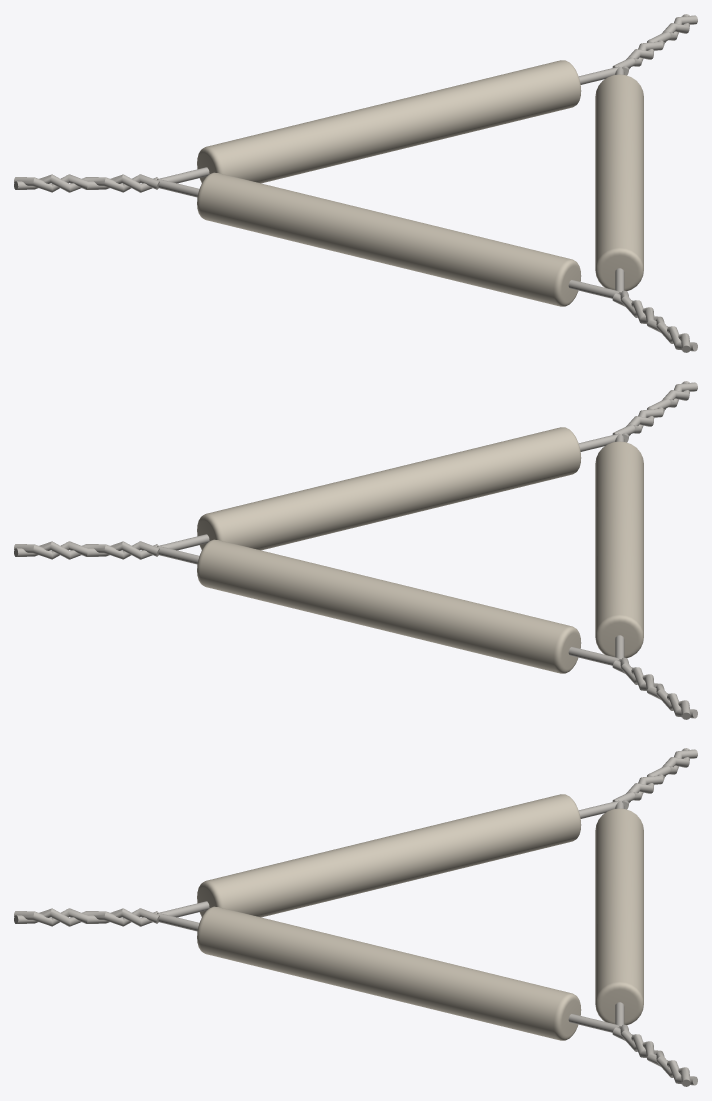
The model's file is clay-triangle.glb.
3 renders of one model, top to bottom at view 1: azimuth 30°, elevation 25°; view 2: azimuth 150°, elevation 25°; view 3: azimuth 270°, elevation 25°, orthographic.
Visible parts, largest first — view 1: Triangle_tube_1, Triangle_tube_0, Triangle_tube_2, Triangle_leg_0_0, Triangle_leg_0_1, Triangle_wire_1, Triangle_wire_0, Triangle_leg_1_0, Triangle_leg_1_1, Triangle_leg_2_1, Triangle_leg_2_0; view 2: Triangle_tube_0, Triangle_tube_2, Triangle_tube_1, Triangle_leg_2_0, Triangle_leg_2_1, Triangle_wire_0, Triangle_wire_2, Triangle_leg_0_0, Triangle_leg_0_1, Triangle_leg_1_1, Triangle_leg_1_0; view 3: Triangle_tube_2, Triangle_tube_1, Triangle_tube_0, Triangle_leg_1_0, Triangle_leg_1_1, Triangle_wire_2, Triangle_wire_1, Triangle_leg_2_0, Triangle_leg_2_1, Triangle_leg_0_1, Triangle_leg_0_0.
Boxes of the visible parts, bbox=[...] form: Triangle_tube_1: bbox=[197, 172, 581, 306]; Triangle_tube_0: bbox=[197, 60, 581, 183]; Triangle_tube_2: bbox=[595, 74, 643, 291]; Triangle_leg_0_0: bbox=[14, 174, 159, 192]; Triangle_leg_0_1: bbox=[14, 174, 158, 192]; Triangle_wire_1: bbox=[158, 179, 619, 298]; Triangle_wire_0: bbox=[157, 66, 618, 183]; Triangle_leg_1_0: bbox=[620, 290, 697, 351]; Triangle_leg_1_1: bbox=[612, 293, 690, 352]; Triangle_leg_2_1: bbox=[622, 15, 697, 75]; Triangle_leg_2_0: bbox=[612, 14, 689, 67]; Triangle_tube_0: bbox=[197, 539, 581, 673]; Triangle_tube_2: bbox=[197, 427, 581, 550]; Triangle_tube_1: bbox=[595, 441, 643, 658]; Triangle_leg_2_0: bbox=[14, 541, 159, 559]; Triangle_leg_2_1: bbox=[14, 541, 158, 559]; Triangle_wire_0: bbox=[158, 546, 619, 665]; Triangle_wire_2: bbox=[157, 433, 618, 550]; Triangle_leg_0_0: bbox=[620, 657, 697, 718]; Triangle_leg_0_1: bbox=[612, 660, 690, 719]; Triangle_leg_1_1: bbox=[622, 382, 697, 442]; Triangle_leg_1_0: bbox=[612, 381, 689, 434]; Triangle_tube_2: bbox=[197, 906, 581, 1040]; Triangle_tube_1: bbox=[197, 794, 581, 917]; Triangle_tube_0: bbox=[595, 808, 643, 1025]; Triangle_leg_1_0: bbox=[14, 908, 159, 926]; Triangle_leg_1_1: bbox=[14, 908, 158, 926]; Triangle_wire_2: bbox=[158, 913, 619, 1032]; Triangle_wire_1: bbox=[157, 800, 618, 917]; Triangle_leg_2_0: bbox=[620, 1024, 697, 1085]; Triangle_leg_2_1: bbox=[612, 1027, 690, 1086]; Triangle_leg_0_1: bbox=[622, 749, 697, 809]; Triangle_leg_0_0: bbox=[612, 748, 689, 801].
Bounding box in the file's own units: 0.1049 × 0.0065 × 0.0912.
